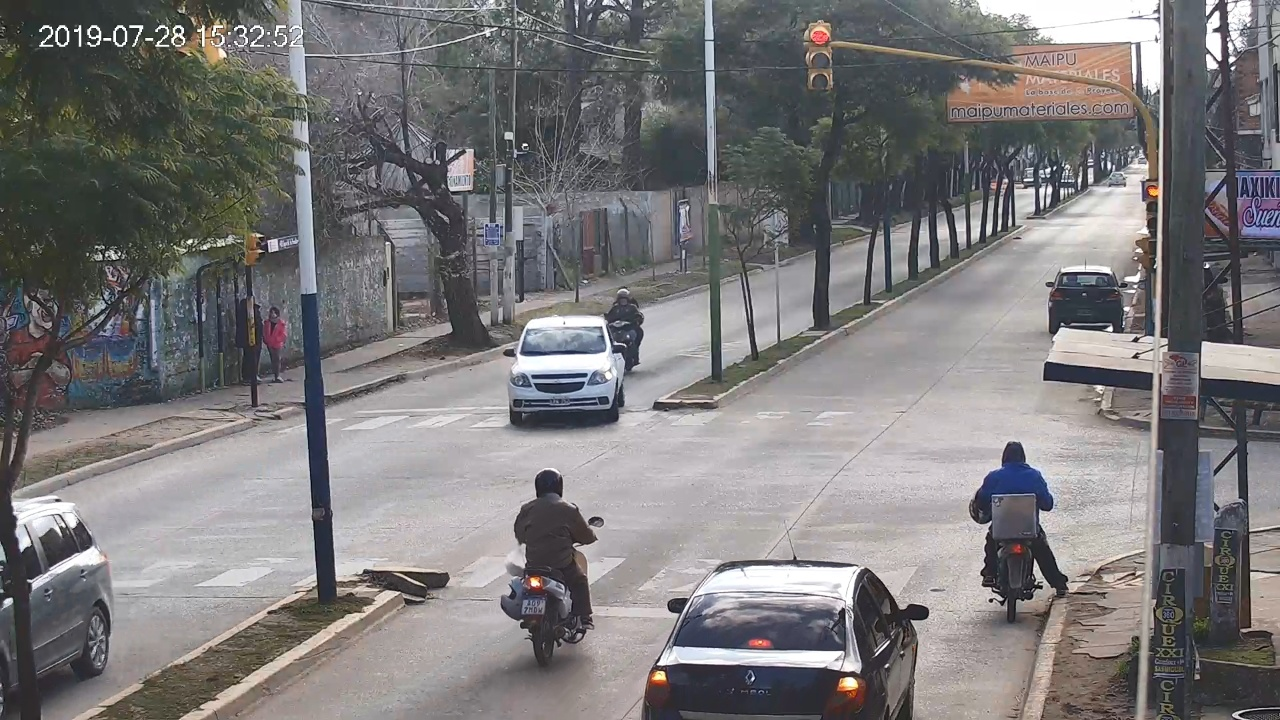car: (642, 559, 925, 720), (1046, 265, 1127, 330)
front car: (503, 315, 625, 423)
motorcycle: (501, 494, 605, 668), (968, 463, 1067, 622)
traffic light: (808, 23, 831, 90), (1147, 181, 1158, 228)
